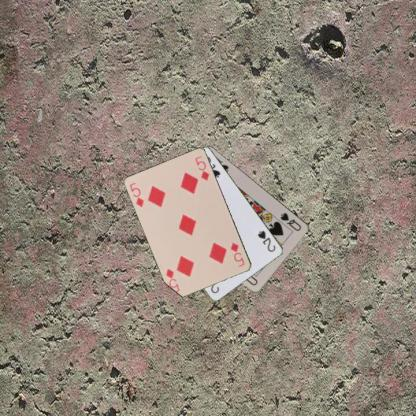2s: (255, 228, 277, 254)
5d: (127, 180, 146, 209), (228, 240, 246, 269)
Qs: (277, 210, 303, 232)
